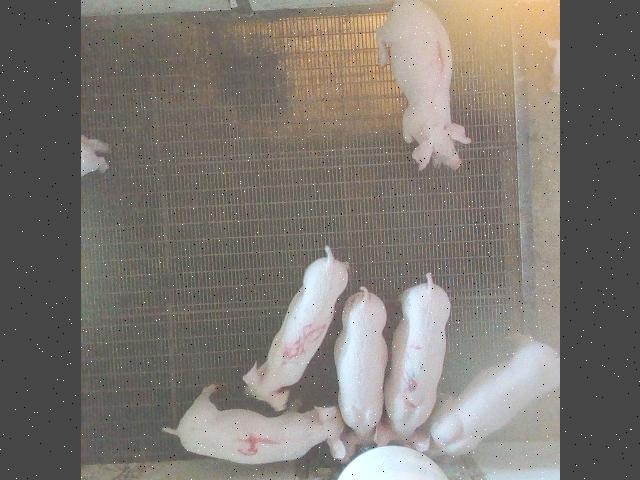pig-1: (375, 0, 469, 170)
pig-3: (372, 274, 449, 451)
pig-4: (164, 385, 344, 464)
pig-5: (242, 246, 347, 411)
